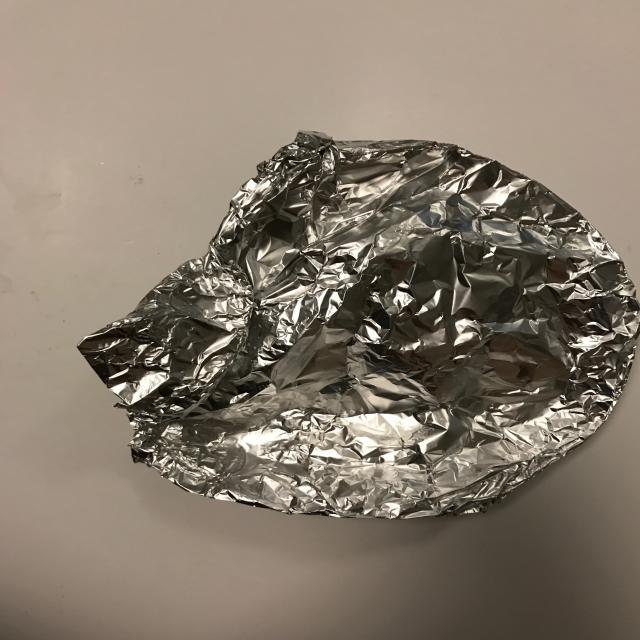metal: (77, 130, 640, 519)
